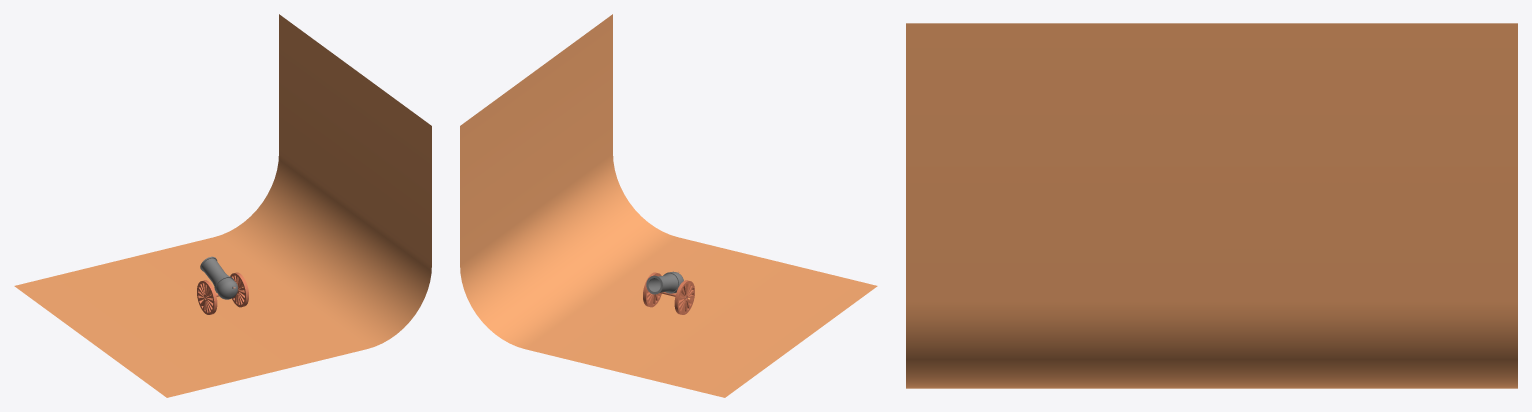
Rendered from Cannon.fbx.
The picture shows the model from 3 angles, left to right: view 1: azimuth 30°, elevation 25°; view 2: azimuth 150°, elevation 25°; view 3: azimuth 270°, elevation 25°; orthographic projection. The views are drawn at different scales.
Parts seen in each view (by area): view 1: Plane.001, Cylinder, Cylinder.001; view 2: Plane.001, Cylinder, Cylinder.001; view 3: Plane.001.
Boxes of the visible parts, left/top/right/bottom form: Plane.001: left=14, top=14, right=431, bottom=397; Cylinder: left=197, top=272, right=248, bottom=314; Cylinder.001: left=200, top=256, right=237, bottom=299; Plane.001: left=460, top=14, right=877, bottom=397; Cylinder: left=643, top=272, right=694, bottom=314; Cylinder.001: left=646, top=271, right=683, bottom=294; Plane.001: left=906, top=23, right=1517, bottom=388.
Bounding box in the file's own units: 801 × 599 × 801.
